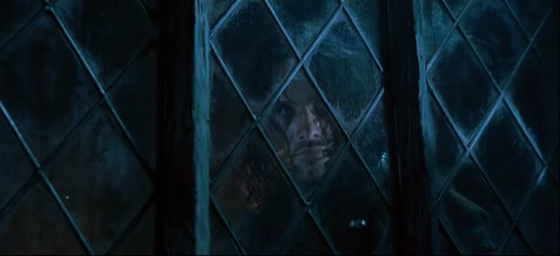face: (269, 77, 341, 181)
mcu: (1, 1, 560, 256)
person: (160, 21, 506, 256)
